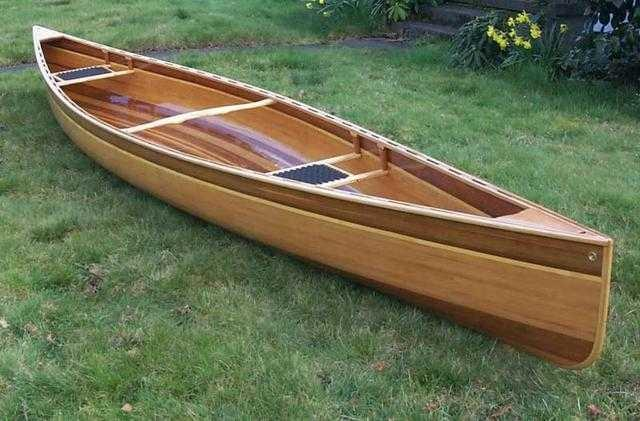kayak: (29, 33, 619, 370)
